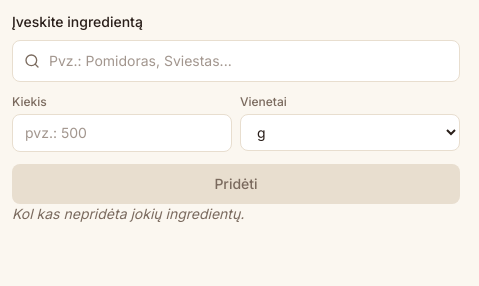
Test: Integracinis testas 1: Ingrediento pridėjimas ir atvaizdavimas (IngredientInput → IngredientList) › 2 atvejis: pridėtas ingredientas nebesiūlomas dropdown antram pridėjimui
In the dropdown labelled "Įveskite ingredientą": (236,61) [12, 40, 460, 82], type "Pomid"
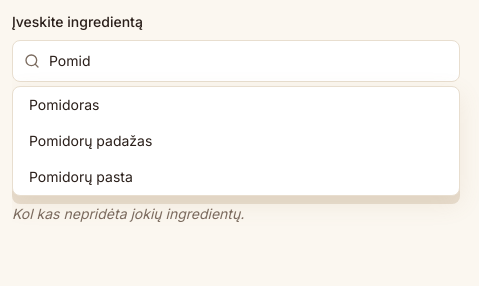
Press the mouse on the option "Pomidoras": (64,104) [29, 96, 99, 113]
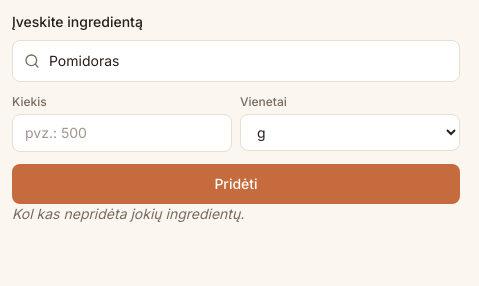
Click the button "Pridėti": (236,184) [12, 164, 460, 204]
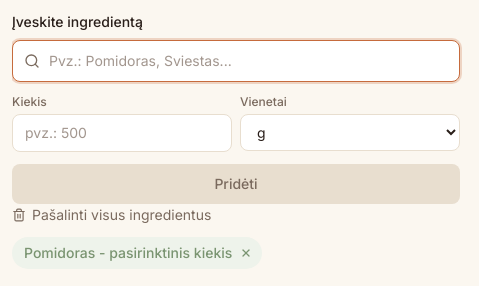
In the dropdown labelled "Įveskite ingredientą": (236,61) [12, 40, 460, 82], type "Pomid"
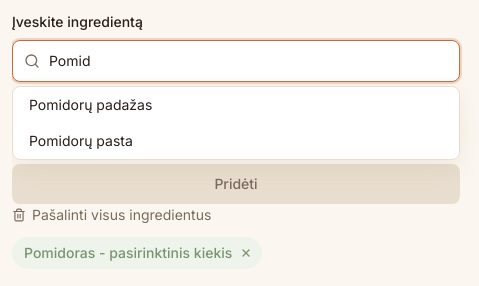
Check: the list does not show "Pomidoras", box [12, 86, 460, 160]
Check: the option "Pomidorų padažas" is shown, box [29, 96, 152, 113]
